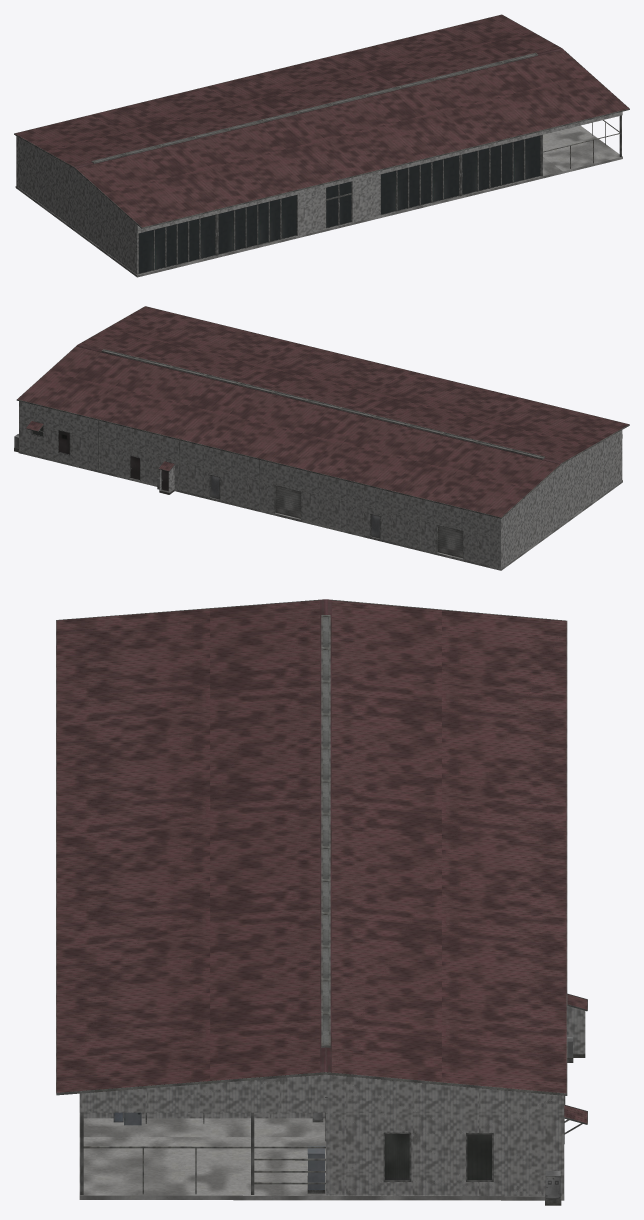
File: city_house_1.glb
3 views of the same model, one above another, from view 1: azimuth 30°, elevation 25°; view 2: azimuth 150°, elevation 25°; view 3: azimuth 270°, elevation 25° (orthographic). The views are drawn at different scales.
Parts seen in each view (by area): view 1: CityHouse1; view 2: CityHouse1; view 3: CityHouse1.
Boxes of the visible parts, x1,y1,x2,y2 form: CityHouse1: (14, 14, 629, 277); CityHouse1: (14, 306, 629, 570); CityHouse1: (56, 599, 587, 1205).
Bounding box in the file's own units: 45.24 × 5.78 × 21.27.
Materials: 4 (4 with a texture image).
